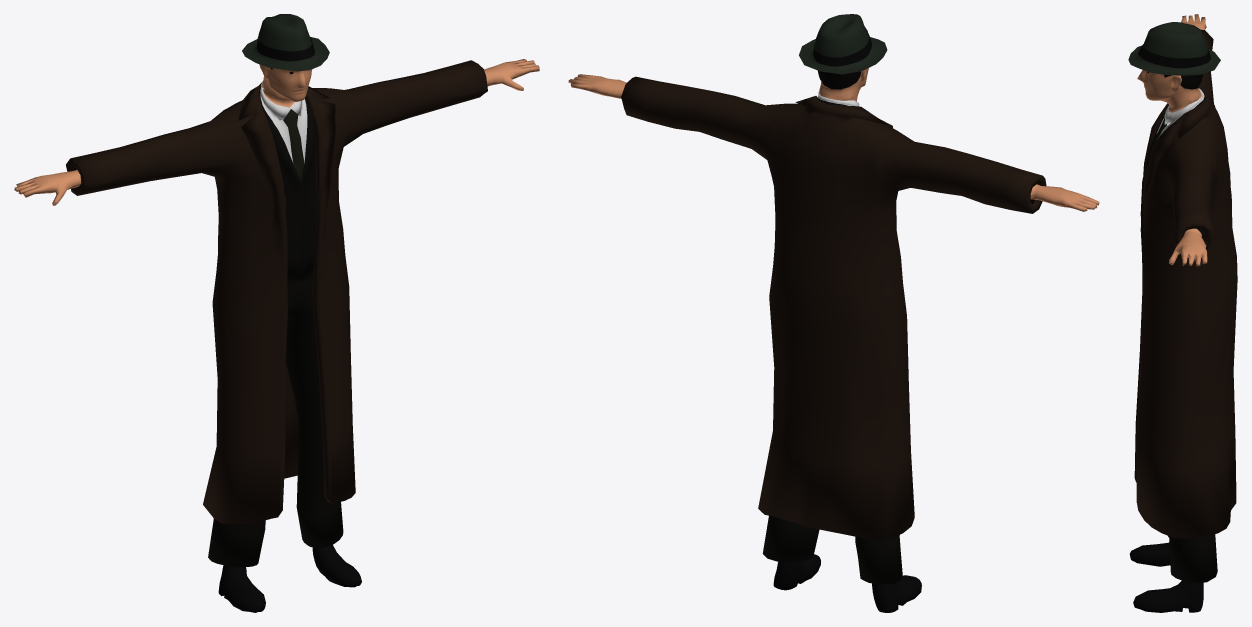
Rendered from Komissar.obj.
3 views of the same model, side by side, from view 1: azimuth 30°, elevation 25°; view 2: azimuth 150°, elevation 25°; view 3: azimuth 270°, elevation 25° (orthographic). The views are drawn at different scales.
Parts seen in each view (by area): view 1: Coat_Plane.013, Body_Plane.011, Hat_Plane.012; view 2: Coat_Plane.013, Body_Plane.011, Hat_Plane.012; view 3: Coat_Plane.013, Body_Plane.011, Hat_Plane.012, HatRibon_Plane.010.
Part boxes in pixels (box(x1,y1,x2,y2)): Coat_Plane.013: box(66, 60, 487, 523); Body_Plane.011: box(14, 59, 539, 612); Hat_Plane.012: box(242, 14, 329, 71); Coat_Plane.013: box(621, 76, 1046, 540); Body_Plane.011: box(568, 68, 1099, 612); Hat_Plane.012: box(799, 14, 887, 74); Coat_Plane.013: box(1134, 29, 1237, 538); Body_Plane.011: box(1129, 14, 1217, 612); Hat_Plane.012: box(1128, 22, 1220, 75); HatRibon_Plane.010: box(1138, 44, 1210, 68).
Bounding box in the file's own units: 1.62 × 1.69 × 0.2992.
